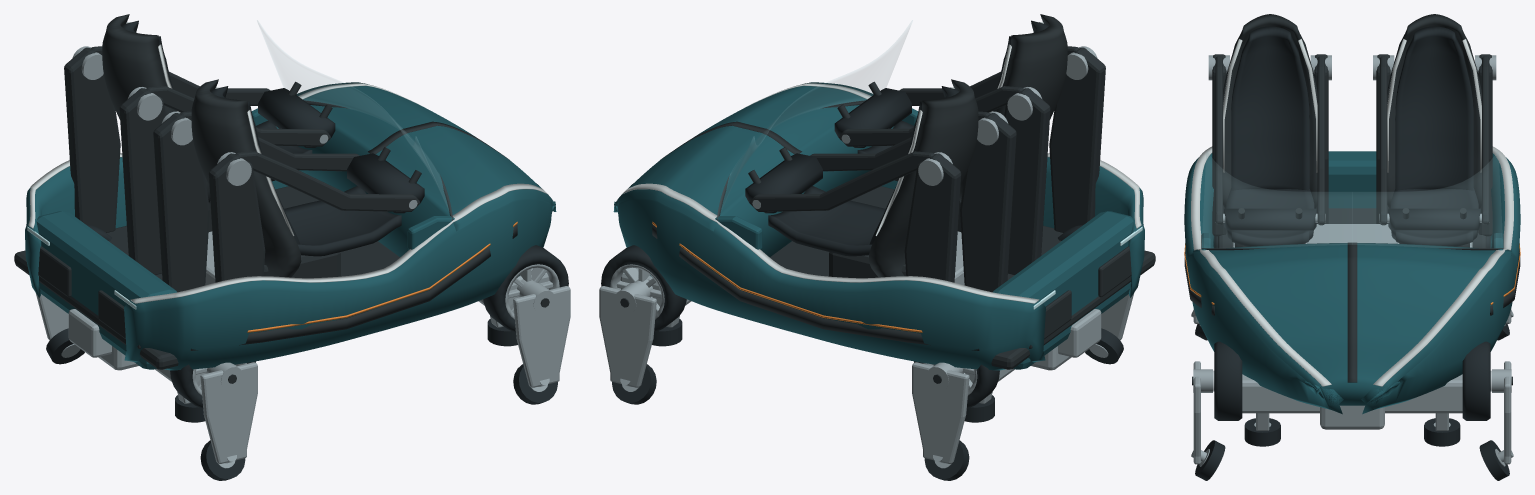
The model's file is SM_TrainCar.fbx.
3 renders of one model, left to right at view 1: azimuth 30°, elevation 25°; view 2: azimuth 150°, elevation 25°; view 3: azimuth 270°, elevation 25°, orthographic. The views are drawn at different scales.
Visible parts, largest first — view 1: SM_TrainCar_UEExport; view 2: SM_TrainCar_UEExport; view 3: SM_TrainCar_UEExport.
Part boxes in pixels (box(x1,y1,x2,y2)): SM_TrainCar_UEExport: box(14, 14, 570, 480); SM_TrainCar_UEExport: box(599, 14, 1155, 480); SM_TrainCar_UEExport: box(1184, 14, 1520, 480).
Size of the model in its own units: 254 by 176 by 190.
